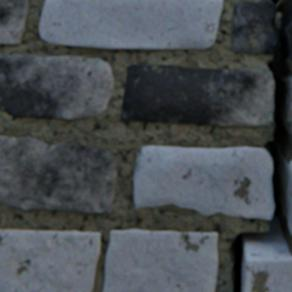brick: (0, 135, 117, 211), (40, 0, 222, 48), (0, 54, 113, 118), (104, 228, 218, 291), (0, 228, 101, 291), (242, 244, 291, 291), (0, 0, 30, 43)
broken_brick: (134, 145, 274, 218), (121, 64, 273, 125), (232, 0, 277, 53), (287, 160, 291, 232), (287, 4, 291, 60), (288, 76, 291, 122)
crack: (229, 0, 291, 291)
